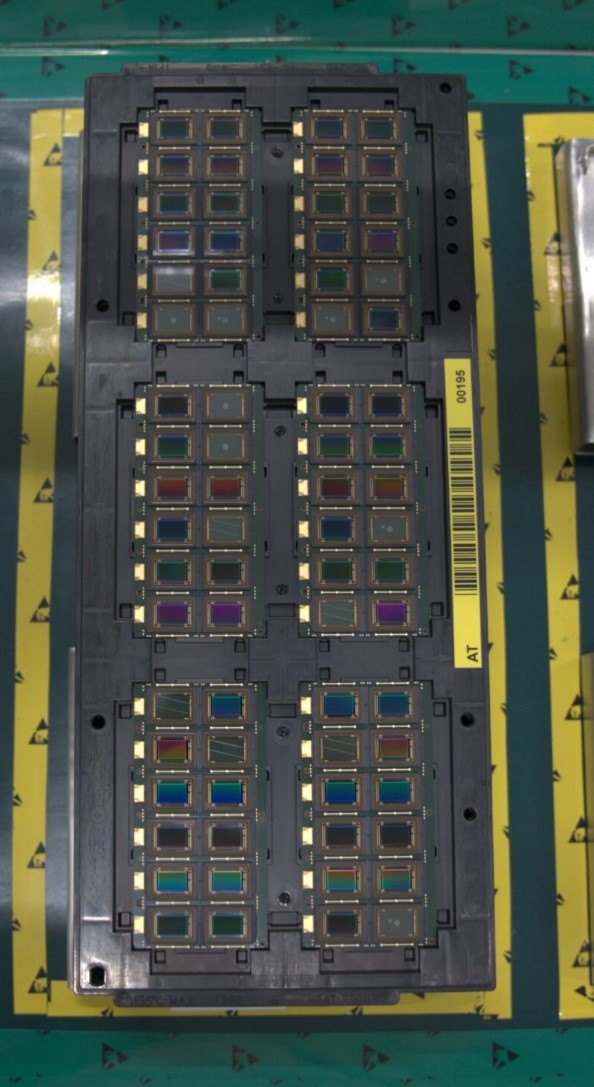Bad_mark_from_BMS_mold: (314, 730, 366, 769), (201, 730, 253, 768), (200, 510, 248, 548), (147, 689, 196, 726), (313, 595, 361, 630)
Bad_mark_from_Maker: (371, 903, 422, 941), (364, 509, 414, 546), (199, 302, 250, 337), (148, 302, 196, 337), (361, 261, 407, 297), (201, 387, 248, 422), (201, 427, 248, 462), (308, 300, 356, 334)
